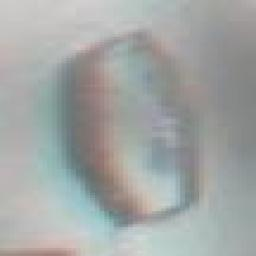crystals: (58, 31, 198, 230)
